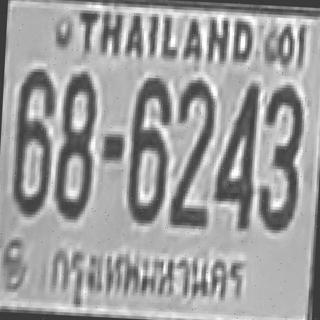N02: (170, 76, 215, 209), (168, 111, 212, 226)
N03: (256, 82, 304, 230)
N04: (212, 79, 258, 229)
N06: (125, 74, 171, 221), (12, 67, 55, 214)
N08: (52, 69, 96, 216)
P04: (35, 233, 254, 320)
